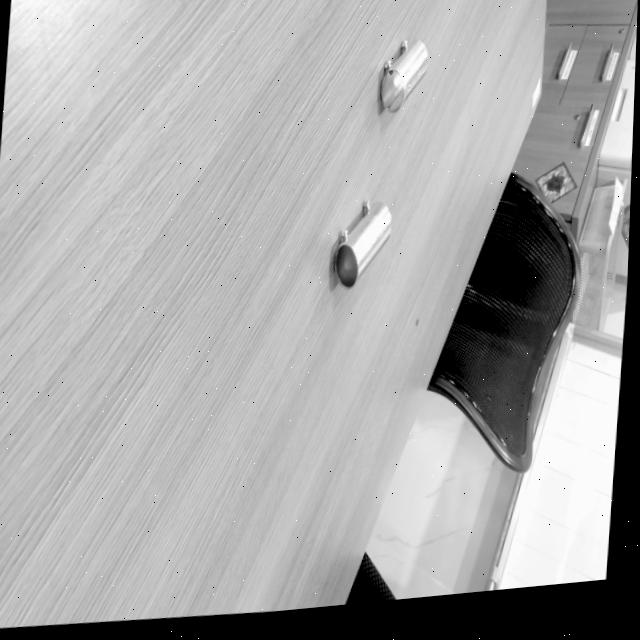Co_Lon: (316, 192, 404, 289)
Co_Nho: (364, 31, 439, 114)
